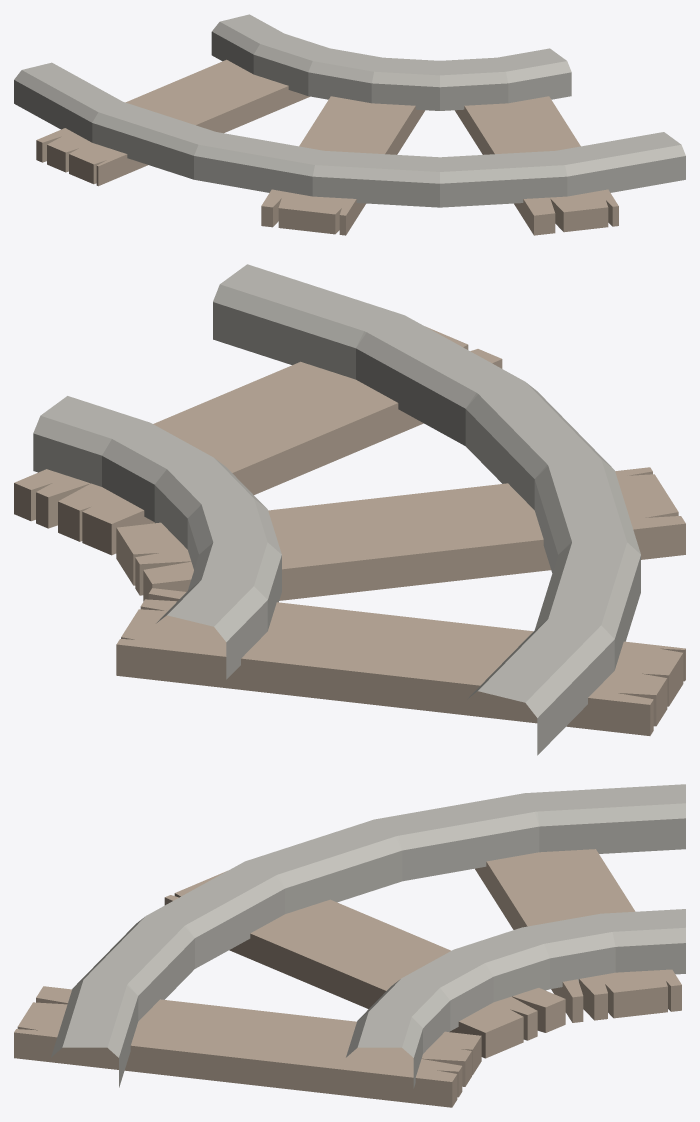
File: Cave_Prop_Railway_Curve_Small.glb
3 views of the same model, one above another, from view 1: azimuth 30°, elevation 25°; view 2: azimuth 150°, elevation 25°; view 3: azimuth 270°, elevation 25° (orthographic). The views are drawn at different scales.
Parts seen in each view (by area): view 1: Cave_Prop_Railway_Curve_Small; view 2: Cave_Prop_Railway_Curve_Small; view 3: Cave_Prop_Railway_Curve_Small.
Boxes of the visible parts, x1,y1,x2,y2 form: Cave_Prop_Railway_Curve_Small: (14,14,685,235); Cave_Prop_Railway_Curve_Small: (14,264,685,755); Cave_Prop_Railway_Curve_Small: (14,784,685,1107).
Size of the model in its own units: 1.48 by 0.15 by 1.48.
